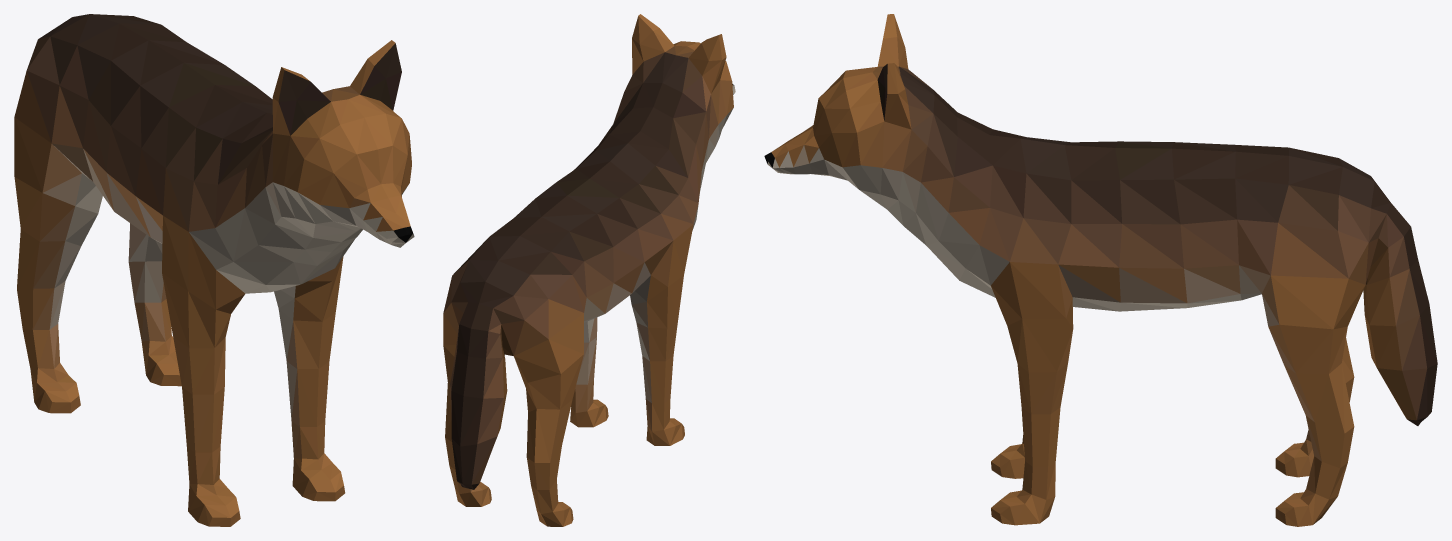
Rendered from jackal.glb.
The picture shows the model from 3 angles, left to right: view 1: azimuth 30°, elevation 25°; view 2: azimuth 150°, elevation 25°; view 3: azimuth 270°, elevation 25°; orthographic projection. The views are drawn at different scales.
Visible parts, largest first — view 1: jackal; view 2: jackal; view 3: jackal.
Part boxes in pixels (x1,y1,x2,y2): jackal: (14,14,414,526); jackal: (443,14,735,526); jackal: (764,14,1437,526).
Size of the model in its own units: 1.8 by 5.11 by 6.85.
